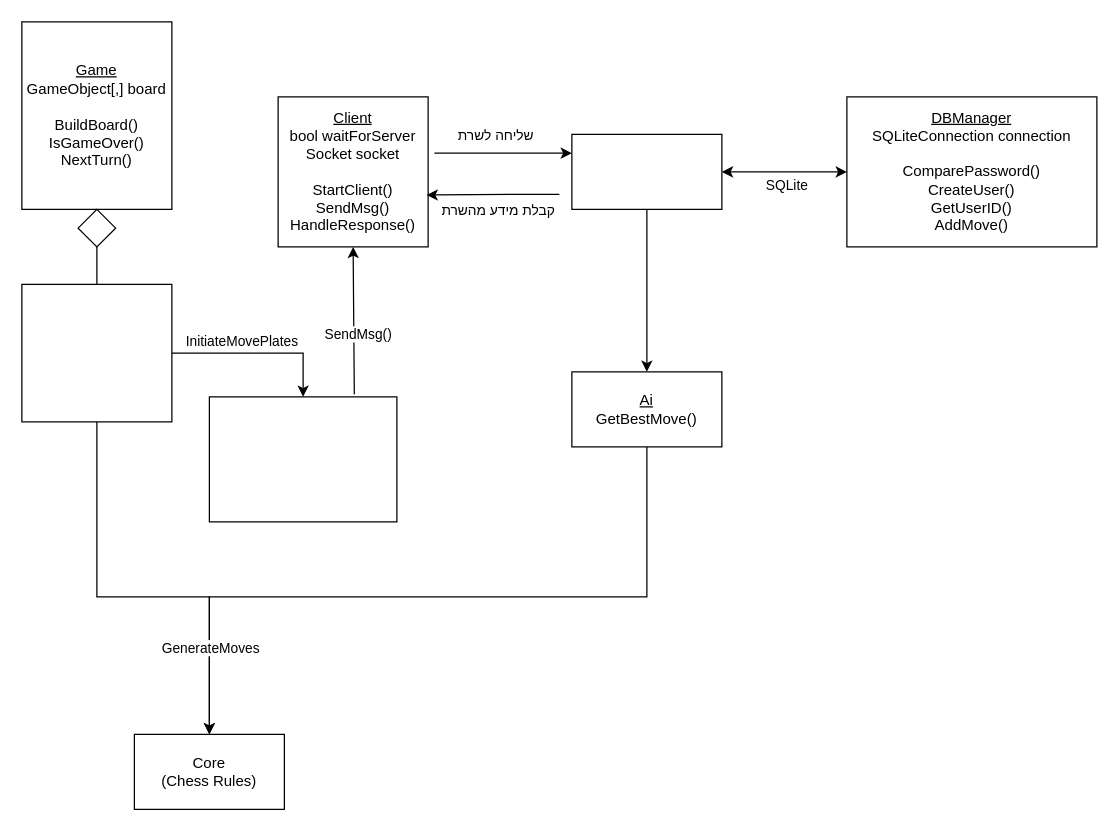
Some shapes in this 1119 by 831 pixel diagram are drawn without their labels. Each missing label, with the centre of its shape:
"MovePlate Point pBoard bool attack OnMouseUp()" goes at [302,459].
"Piece bool isMoving Point pBoard MoveToTarget() InitiateMovePlate()" goes at [96,352].
"Server ManagingClients() HandleClient()" goes at [646,171].
